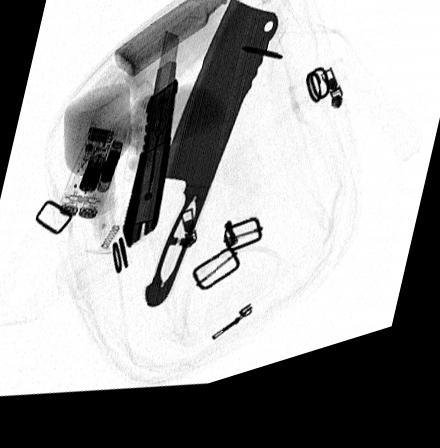Knife: (144, 10, 279, 315), (122, 39, 181, 255)
